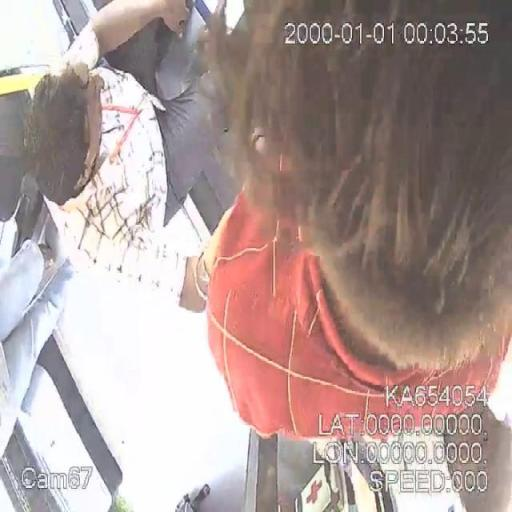persona: (194, 1, 512, 510), (1, 1, 240, 510)
